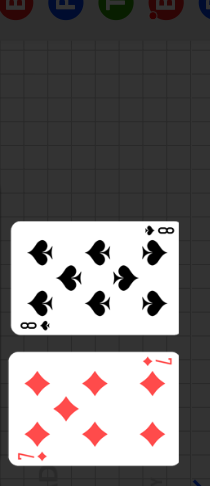10S: (142, 225, 176, 238)
7D: (142, 355, 174, 368)
